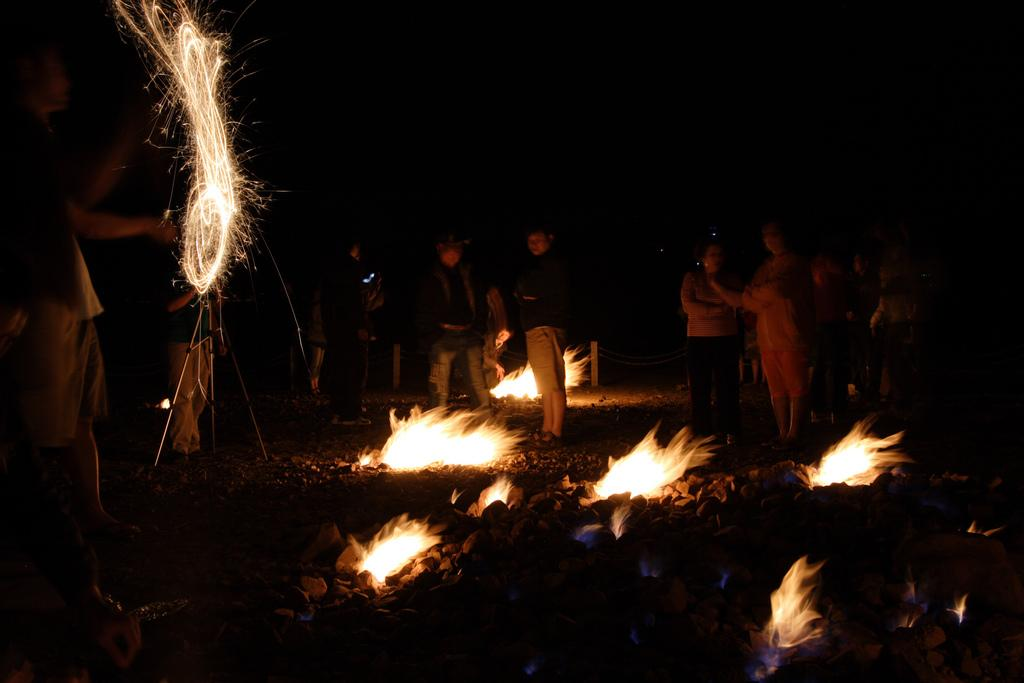fire: (180, 45, 235, 285), (397, 433, 502, 463), (365, 533, 423, 587), (825, 435, 875, 493), (615, 448, 677, 493), (770, 585, 812, 638)
